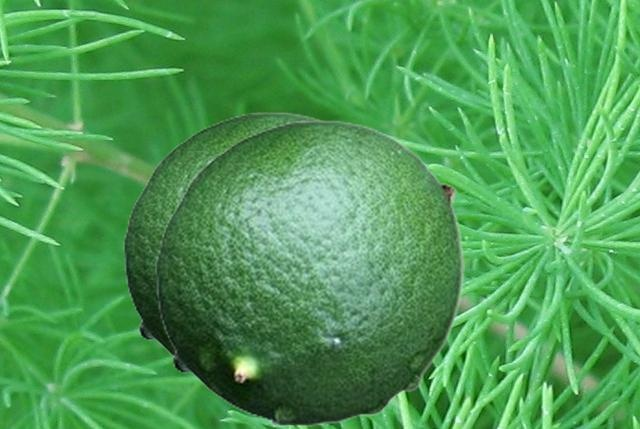calamansi: (155, 119, 463, 425), (123, 111, 327, 359)
